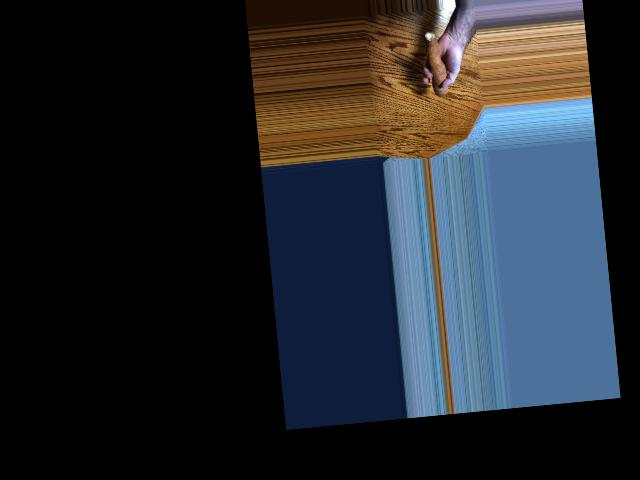sweet_potato: (423, 35, 450, 93)
